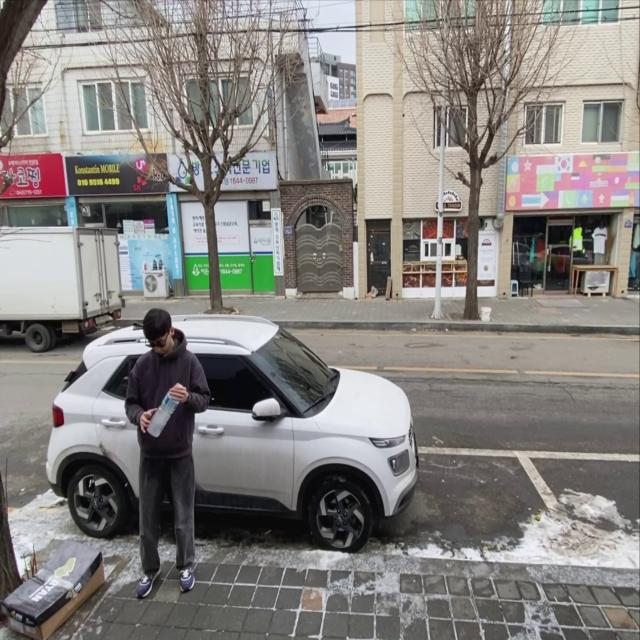bare_hand: (166, 381, 190, 406), (138, 406, 156, 434)
